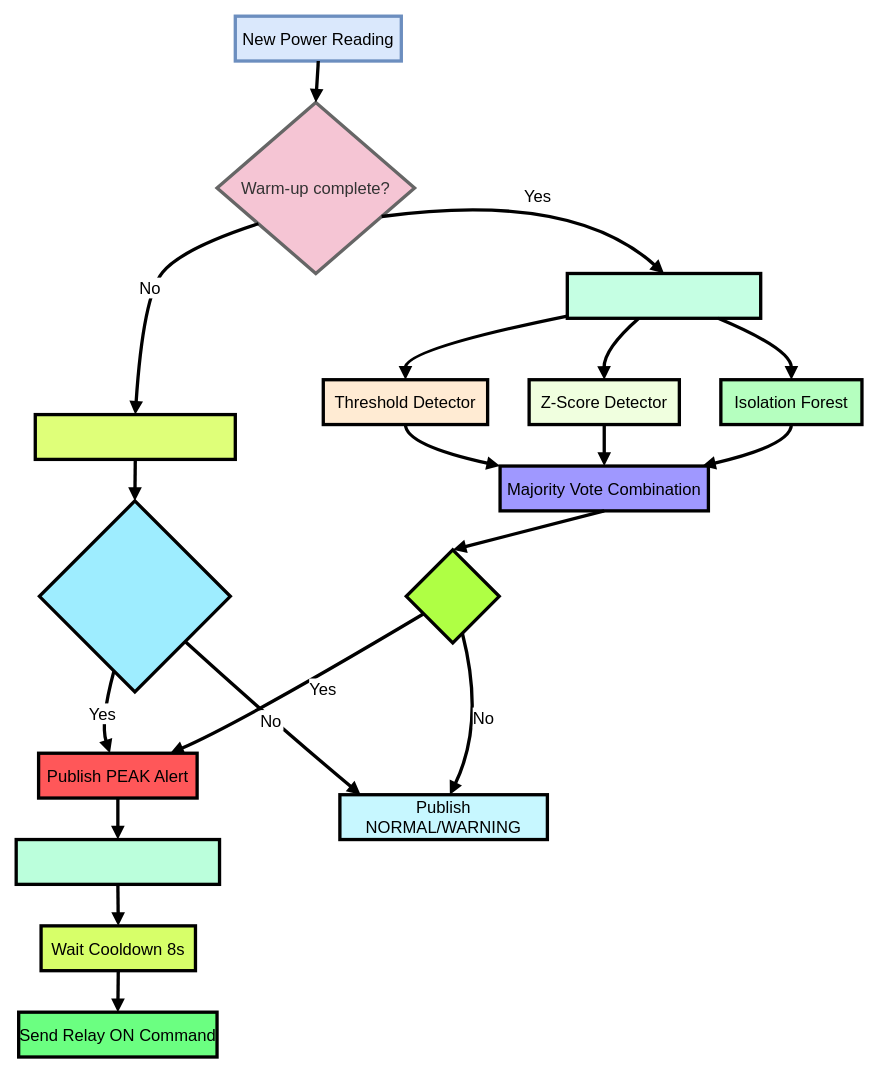
Image size: 877x1072. Some labels were removed from this diagram. Each missing label, with the box of its shape:
Is PEAK?: (404, 548, 500, 644)
Power > Peak Threshold?: (37, 499, 232, 693)
Run Ensemble Detectors: (565, 271, 762, 320)
Send Relay OFF Command: (14, 837, 221, 886)
Use Fixed Threshold Only: (33, 413, 237, 461)
